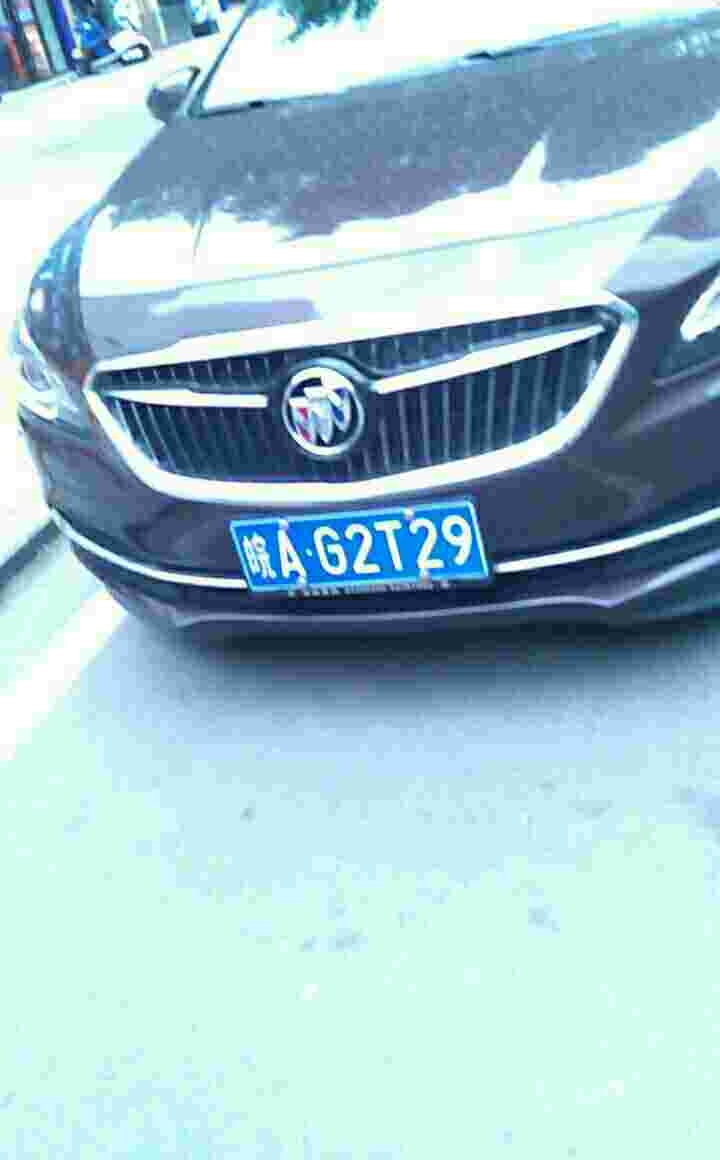license_plate: (243, 496, 475, 592)
